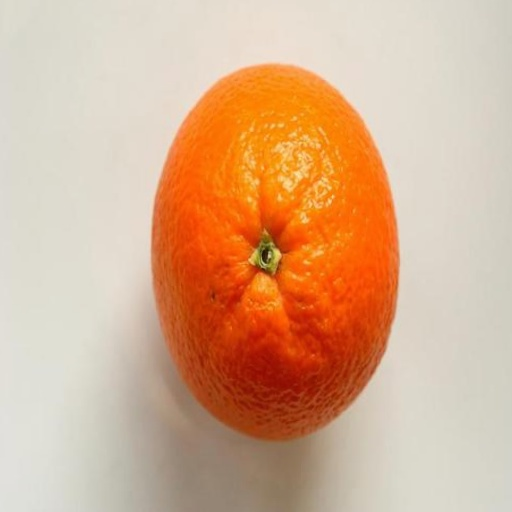fruit: (151, 65, 397, 439)
